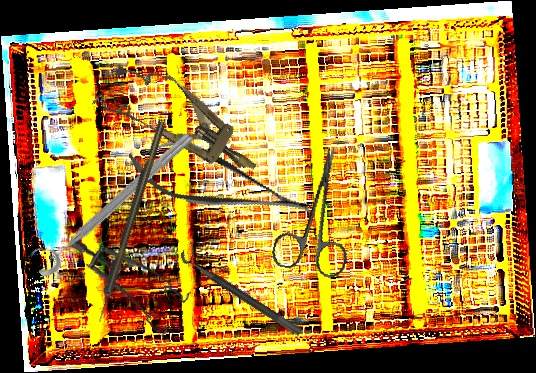Fixation Ring: (24, 119, 198, 281), (177, 240, 310, 338)
Hook Surgical: (92, 120, 168, 324)
Iris Scissors: (269, 139, 371, 281)
Micro Scissor: (120, 125, 320, 241)
Speculum: (91, 48, 273, 196), (58, 237, 196, 340)
